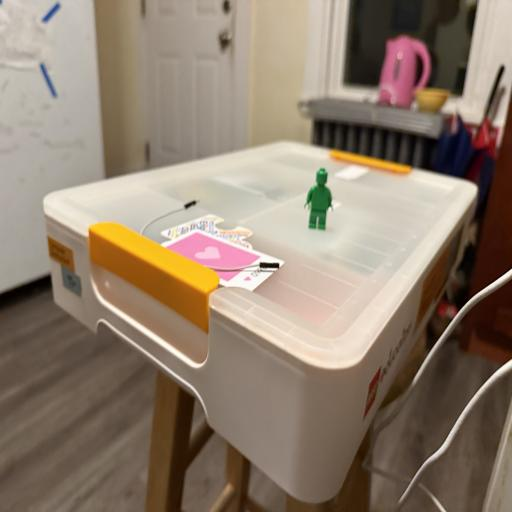Minifig: (304, 168, 332, 230)
